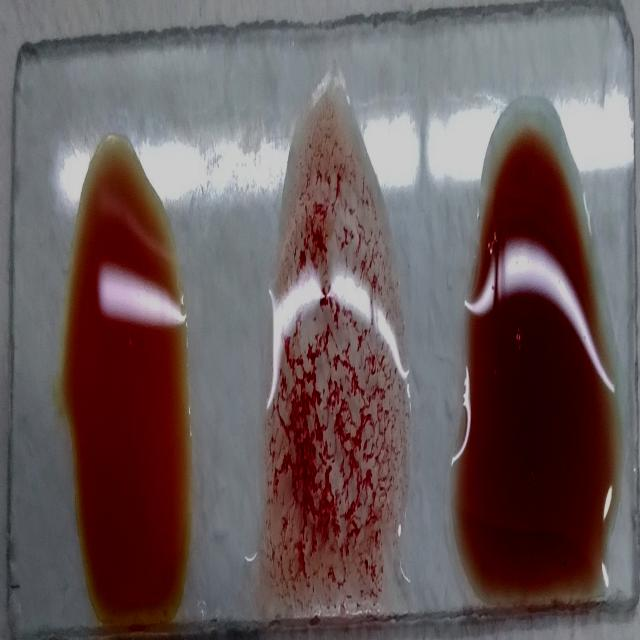D: (268, 81, 406, 608)
